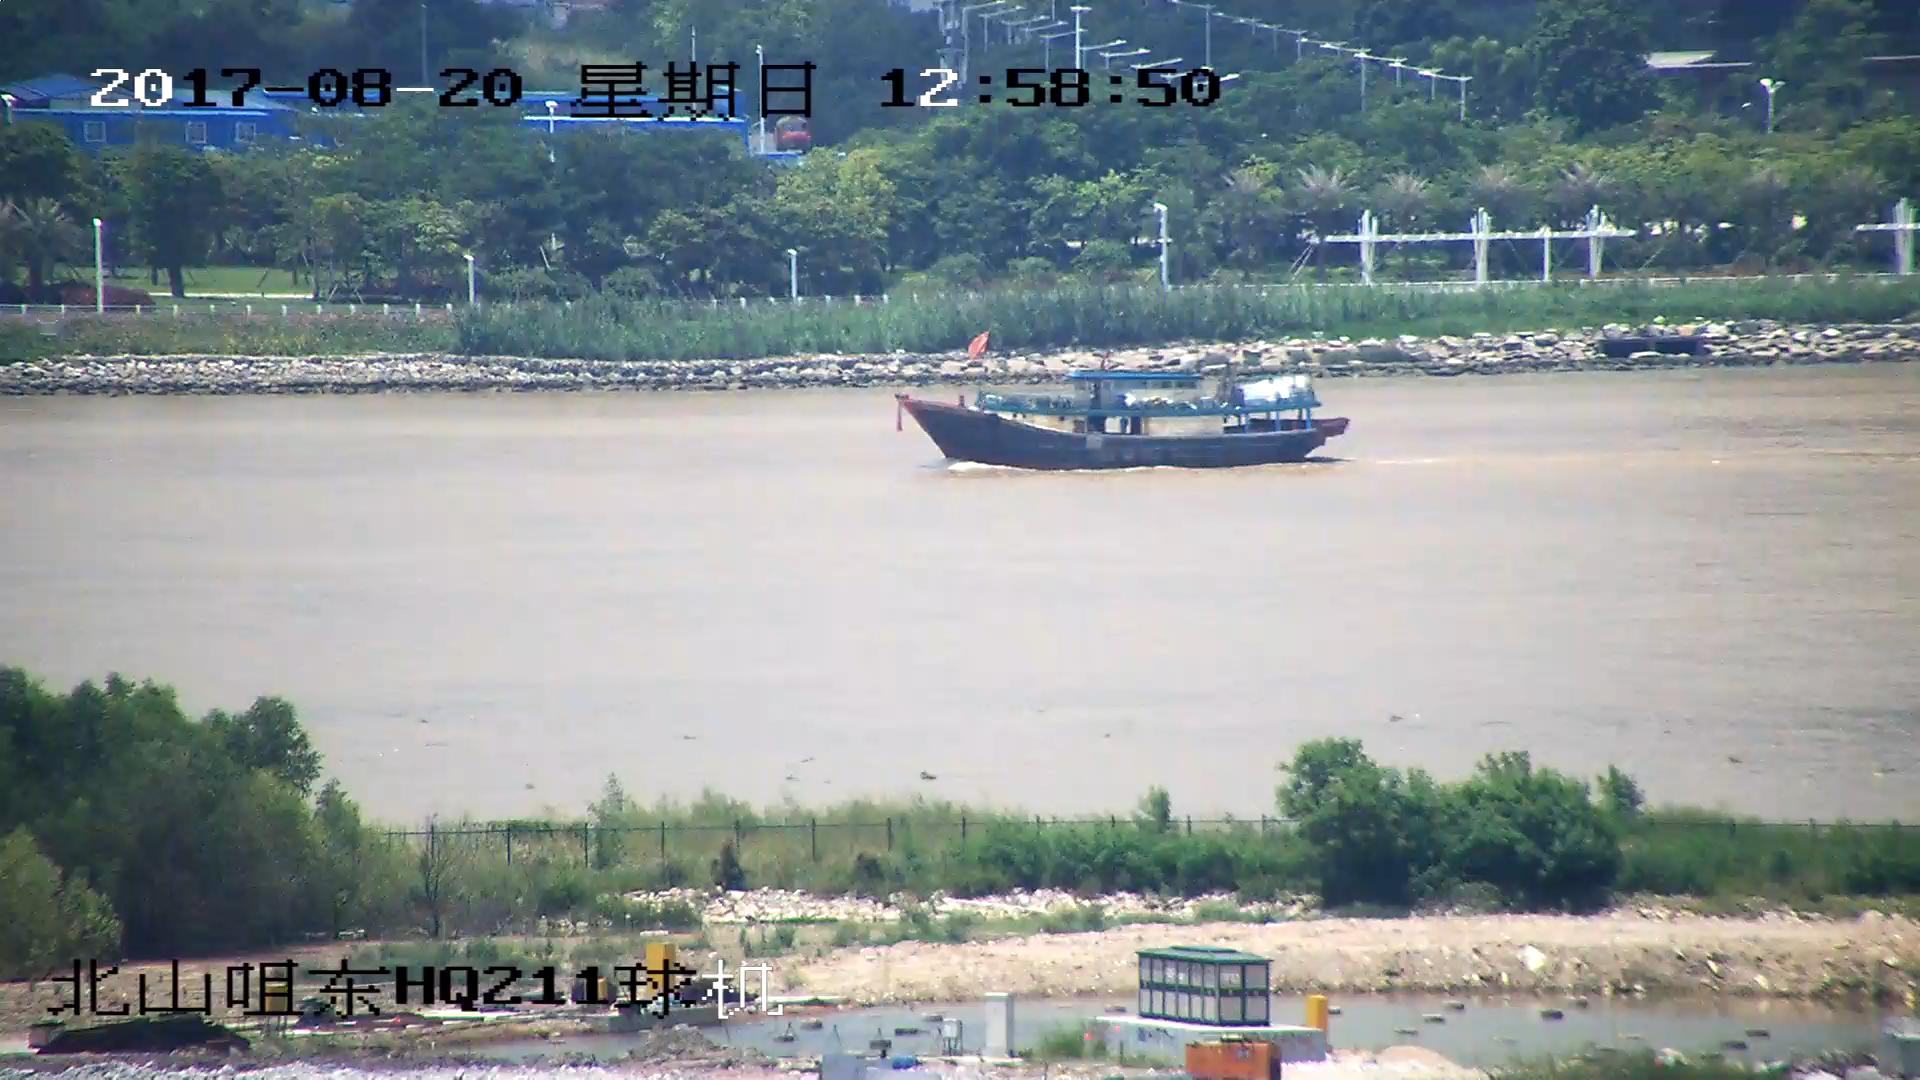fishing boat: (898, 364, 1349, 468)
